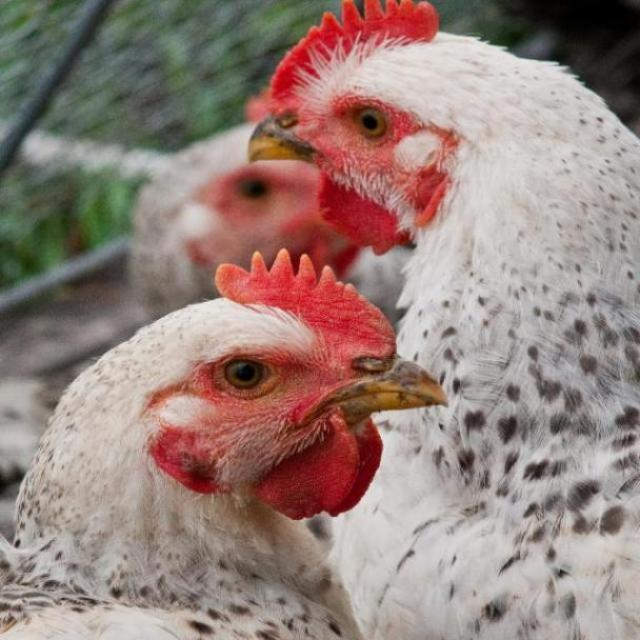Chicken: (244, 0, 640, 640), (0, 253, 454, 639), (127, 129, 400, 329)
